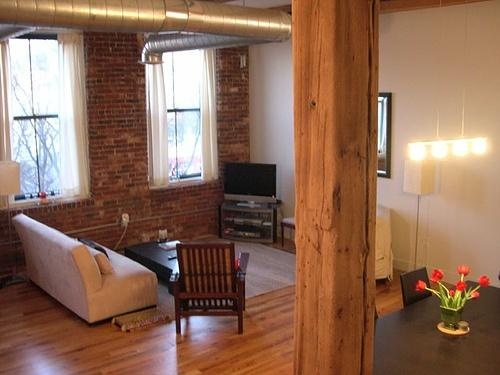chair: (169, 241, 251, 335), (401, 268, 434, 307)
diningtable: (374, 280, 500, 375)
sofa: (13, 214, 159, 327)
tvmonitor: (223, 162, 281, 209)
